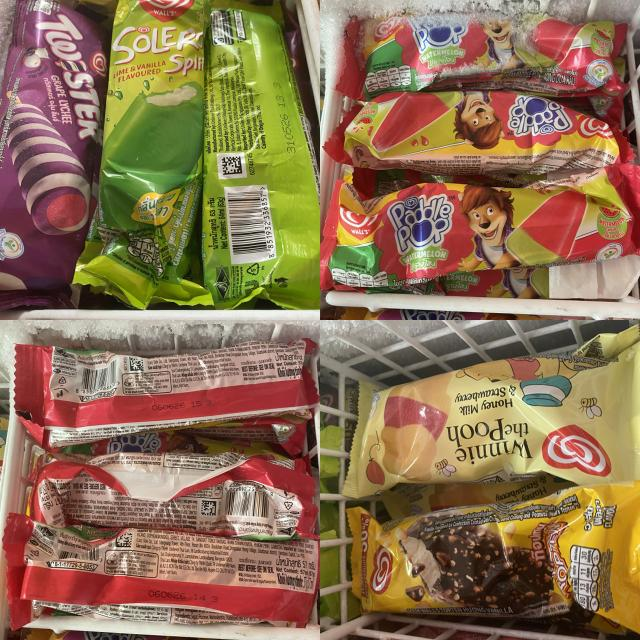plastik: (344, 326, 640, 498), (348, 481, 640, 631), (74, 0, 214, 309), (321, 165, 640, 290), (201, 0, 319, 309), (4, 514, 319, 628), (0, 0, 109, 308), (15, 339, 318, 447), (335, 11, 628, 101), (324, 91, 634, 174), (30, 452, 318, 540)
